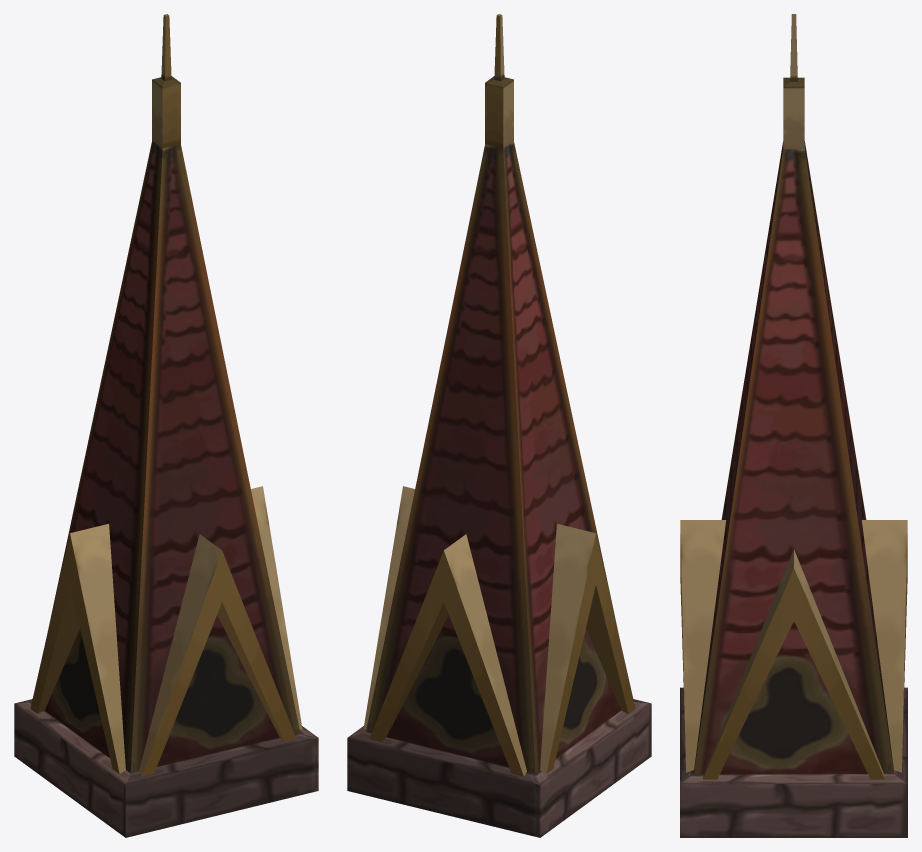
File: SM_Plains_wuding03.FBX
3 renders of one model, left to right at view 1: azimuth 30°, elevation 25°; view 2: azimuth 150°, elevation 25°; view 3: azimuth 270°, elevation 25°, orthographic. The views are drawn at different scales.
Visible parts, largest first — view 1: SM_Plains_wuding03; view 2: SM_Plains_wuding03; view 3: SM_Plains_wuding03.
Boxes of the visible parts, box(x1,y1,x2,y2) form: SM_Plains_wuding03: box(14, 14, 318, 837); SM_Plains_wuding03: box(347, 14, 651, 837); SM_Plains_wuding03: box(680, 14, 907, 837).
Size of the model in its own units: 433 by 1625 by 433.
